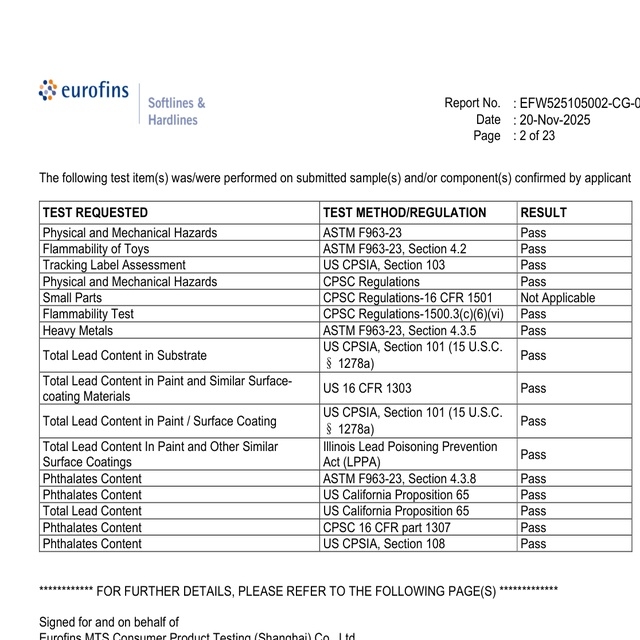eurofins: (35, 76, 133, 108)
